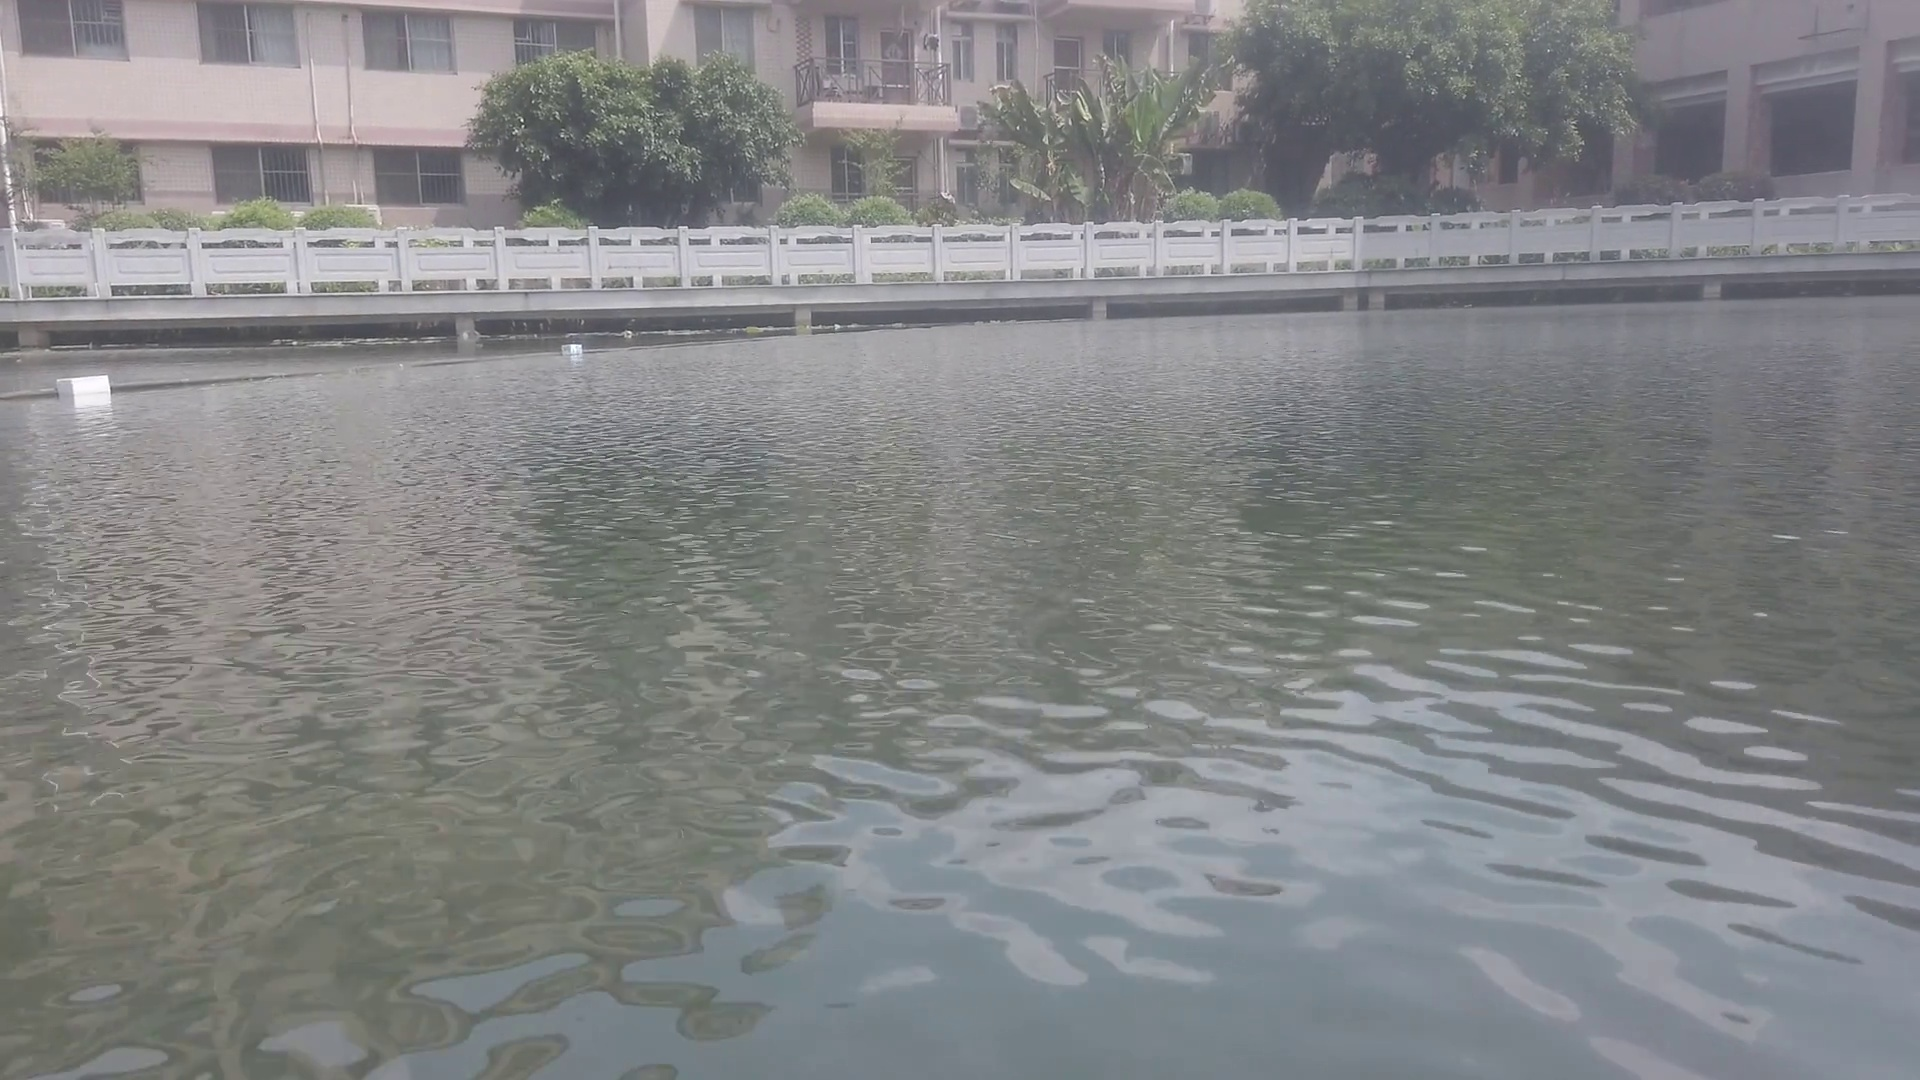carton: (55, 371, 115, 396), (563, 339, 588, 357)
